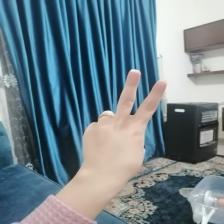two: (80, 66, 170, 188)
